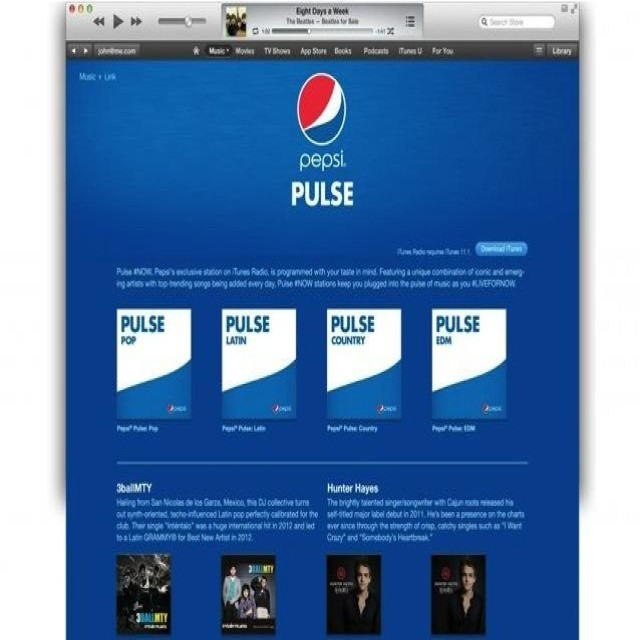pepsi: (296, 72, 349, 147)
